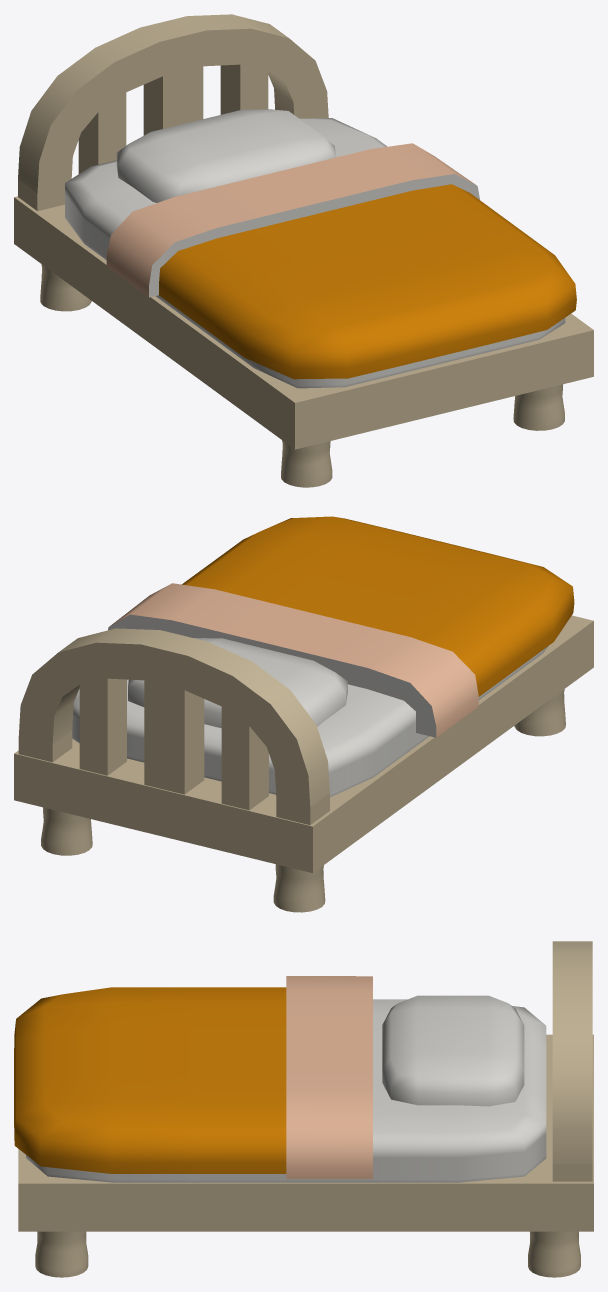
The model's file is cartoon bed 03.fbx.
3 views of the same model, one above another, from view 1: azimuth 30°, elevation 25°; view 2: azimuth 150°, elevation 25°; view 3: azimuth 270°, elevation 25° (orthographic). The views are drawn at different scales.
Parts seen in each view (by area): view 1: cartoon_bed_003; view 2: cartoon_bed_003; view 3: cartoon_bed_003.
Boxes of the visible parts, bbox=[...] form: cartoon_bed_003: bbox=[14, 14, 593, 487]; cartoon_bed_003: bbox=[14, 516, 593, 912]; cartoon_bed_003: bbox=[14, 941, 593, 1277].
Bounding box in the file's own units: 4.85 × 3.3 × 7.17.
